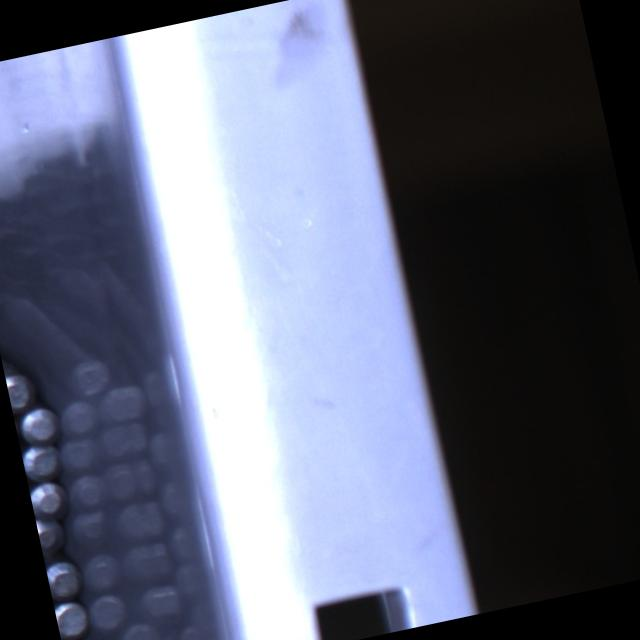tool: (28, 478, 70, 522), (16, 404, 59, 446), (19, 438, 62, 480), (86, 591, 129, 633), (44, 556, 82, 600), (54, 598, 90, 640), (3, 365, 36, 409)
tool_b: (34, 509, 66, 556)
